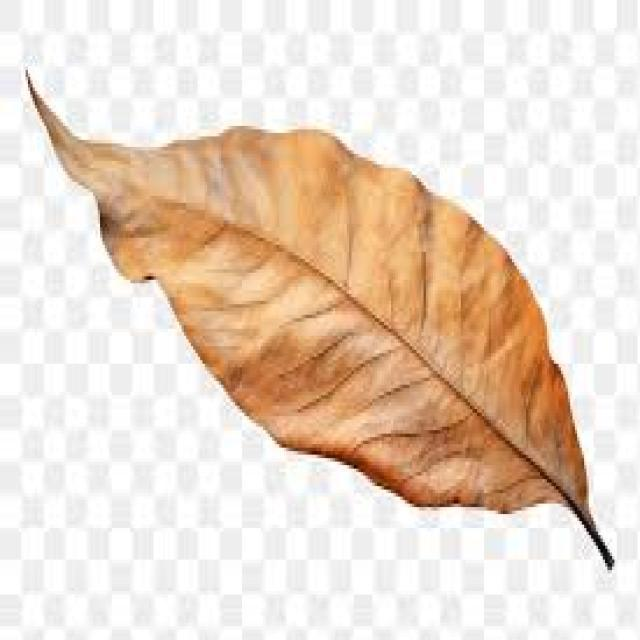leaf: (23, 65, 615, 570)
